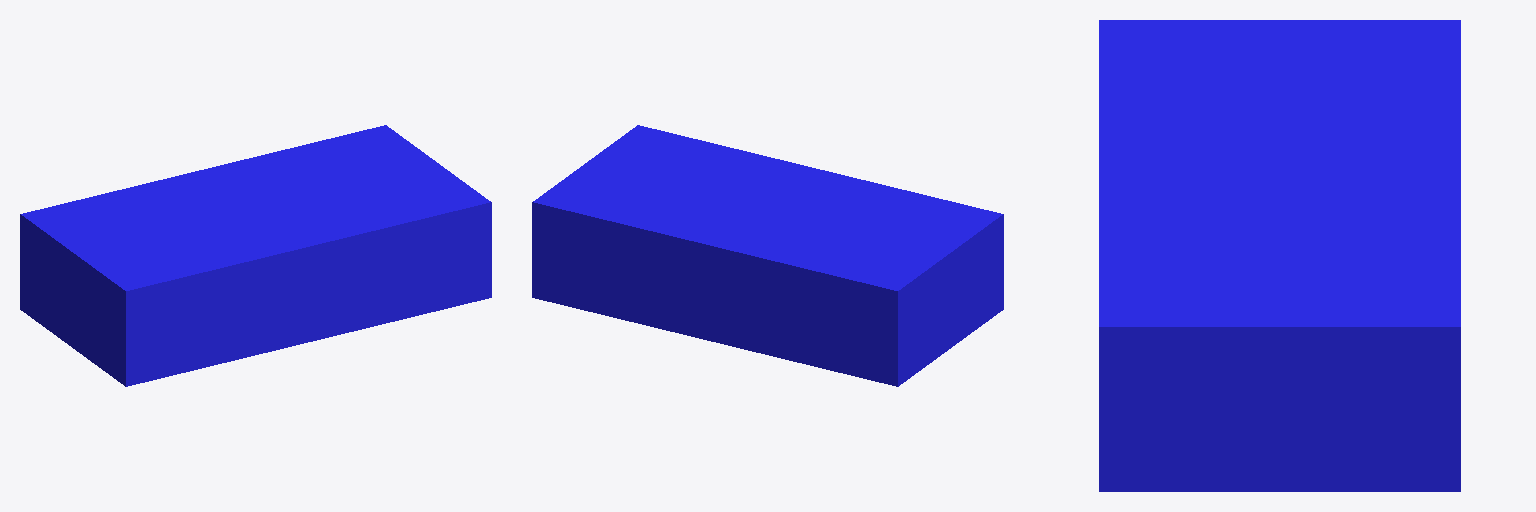
robot.urdf — obstacle:
<?xml version="1.0" encoding="utf-8"?>
<robot name="obstacle">
  <!-- Blue obstacle box 40x20x10cm -->
  <link name="obstacle">
    <inertial>
      <mass value="0.5"/>
      <inertia ixx="0.01" ixy="0" ixz="0" iyy="0.01" iyz="0" izz="0.01"/>
    </inertial>
    <visual>
      <geometry>
        <box size="0.4 0.2 0.1"/>
      </geometry>
      <material name="blue">
        <color rgba="0.2 0.2 1.0 1"/>
      </material>
    </visual>
    <collision>
      <geometry>
        <box size="0.4 0.2 0.1"/>
      </geometry>
    </collision>
  </link>

  <gazebo reference="obstacle">
    <visual>
      <material>
        <ambient>0.2 0.2 1.0 1</ambient>
        <diffuse>0.2 0.2 1.0 1</diffuse>
      </material>
    </visual>
  </gazebo>
</robot>

--- What the picture shows (computed from the rendered views, not written in the file) ---
The picture shows the robot from 3 angles, left to right: view 1: azimuth 30°, elevation 25°; view 2: azimuth 150°, elevation 25°; view 3: azimuth 270°, elevation 25°; orthographic projection.
Robot: obstacle — 1 links, 0 joints (none); root link obstacle; default pose: every joint at zero.
Visible links, largest first — view 1: obstacle; view 2: obstacle; view 3: obstacle.
Boxes of the visible links, x1,y1,x2,y2 form: obstacle: [20, 125, 491, 386]; obstacle: [532, 125, 1003, 386]; obstacle: [1099, 20, 1460, 491].
Size in the robot's own frame: 0.4 by 0.2 by 0.1 metres.
Geometry: primitives only (box / cylinder / sphere), no mesh files.
